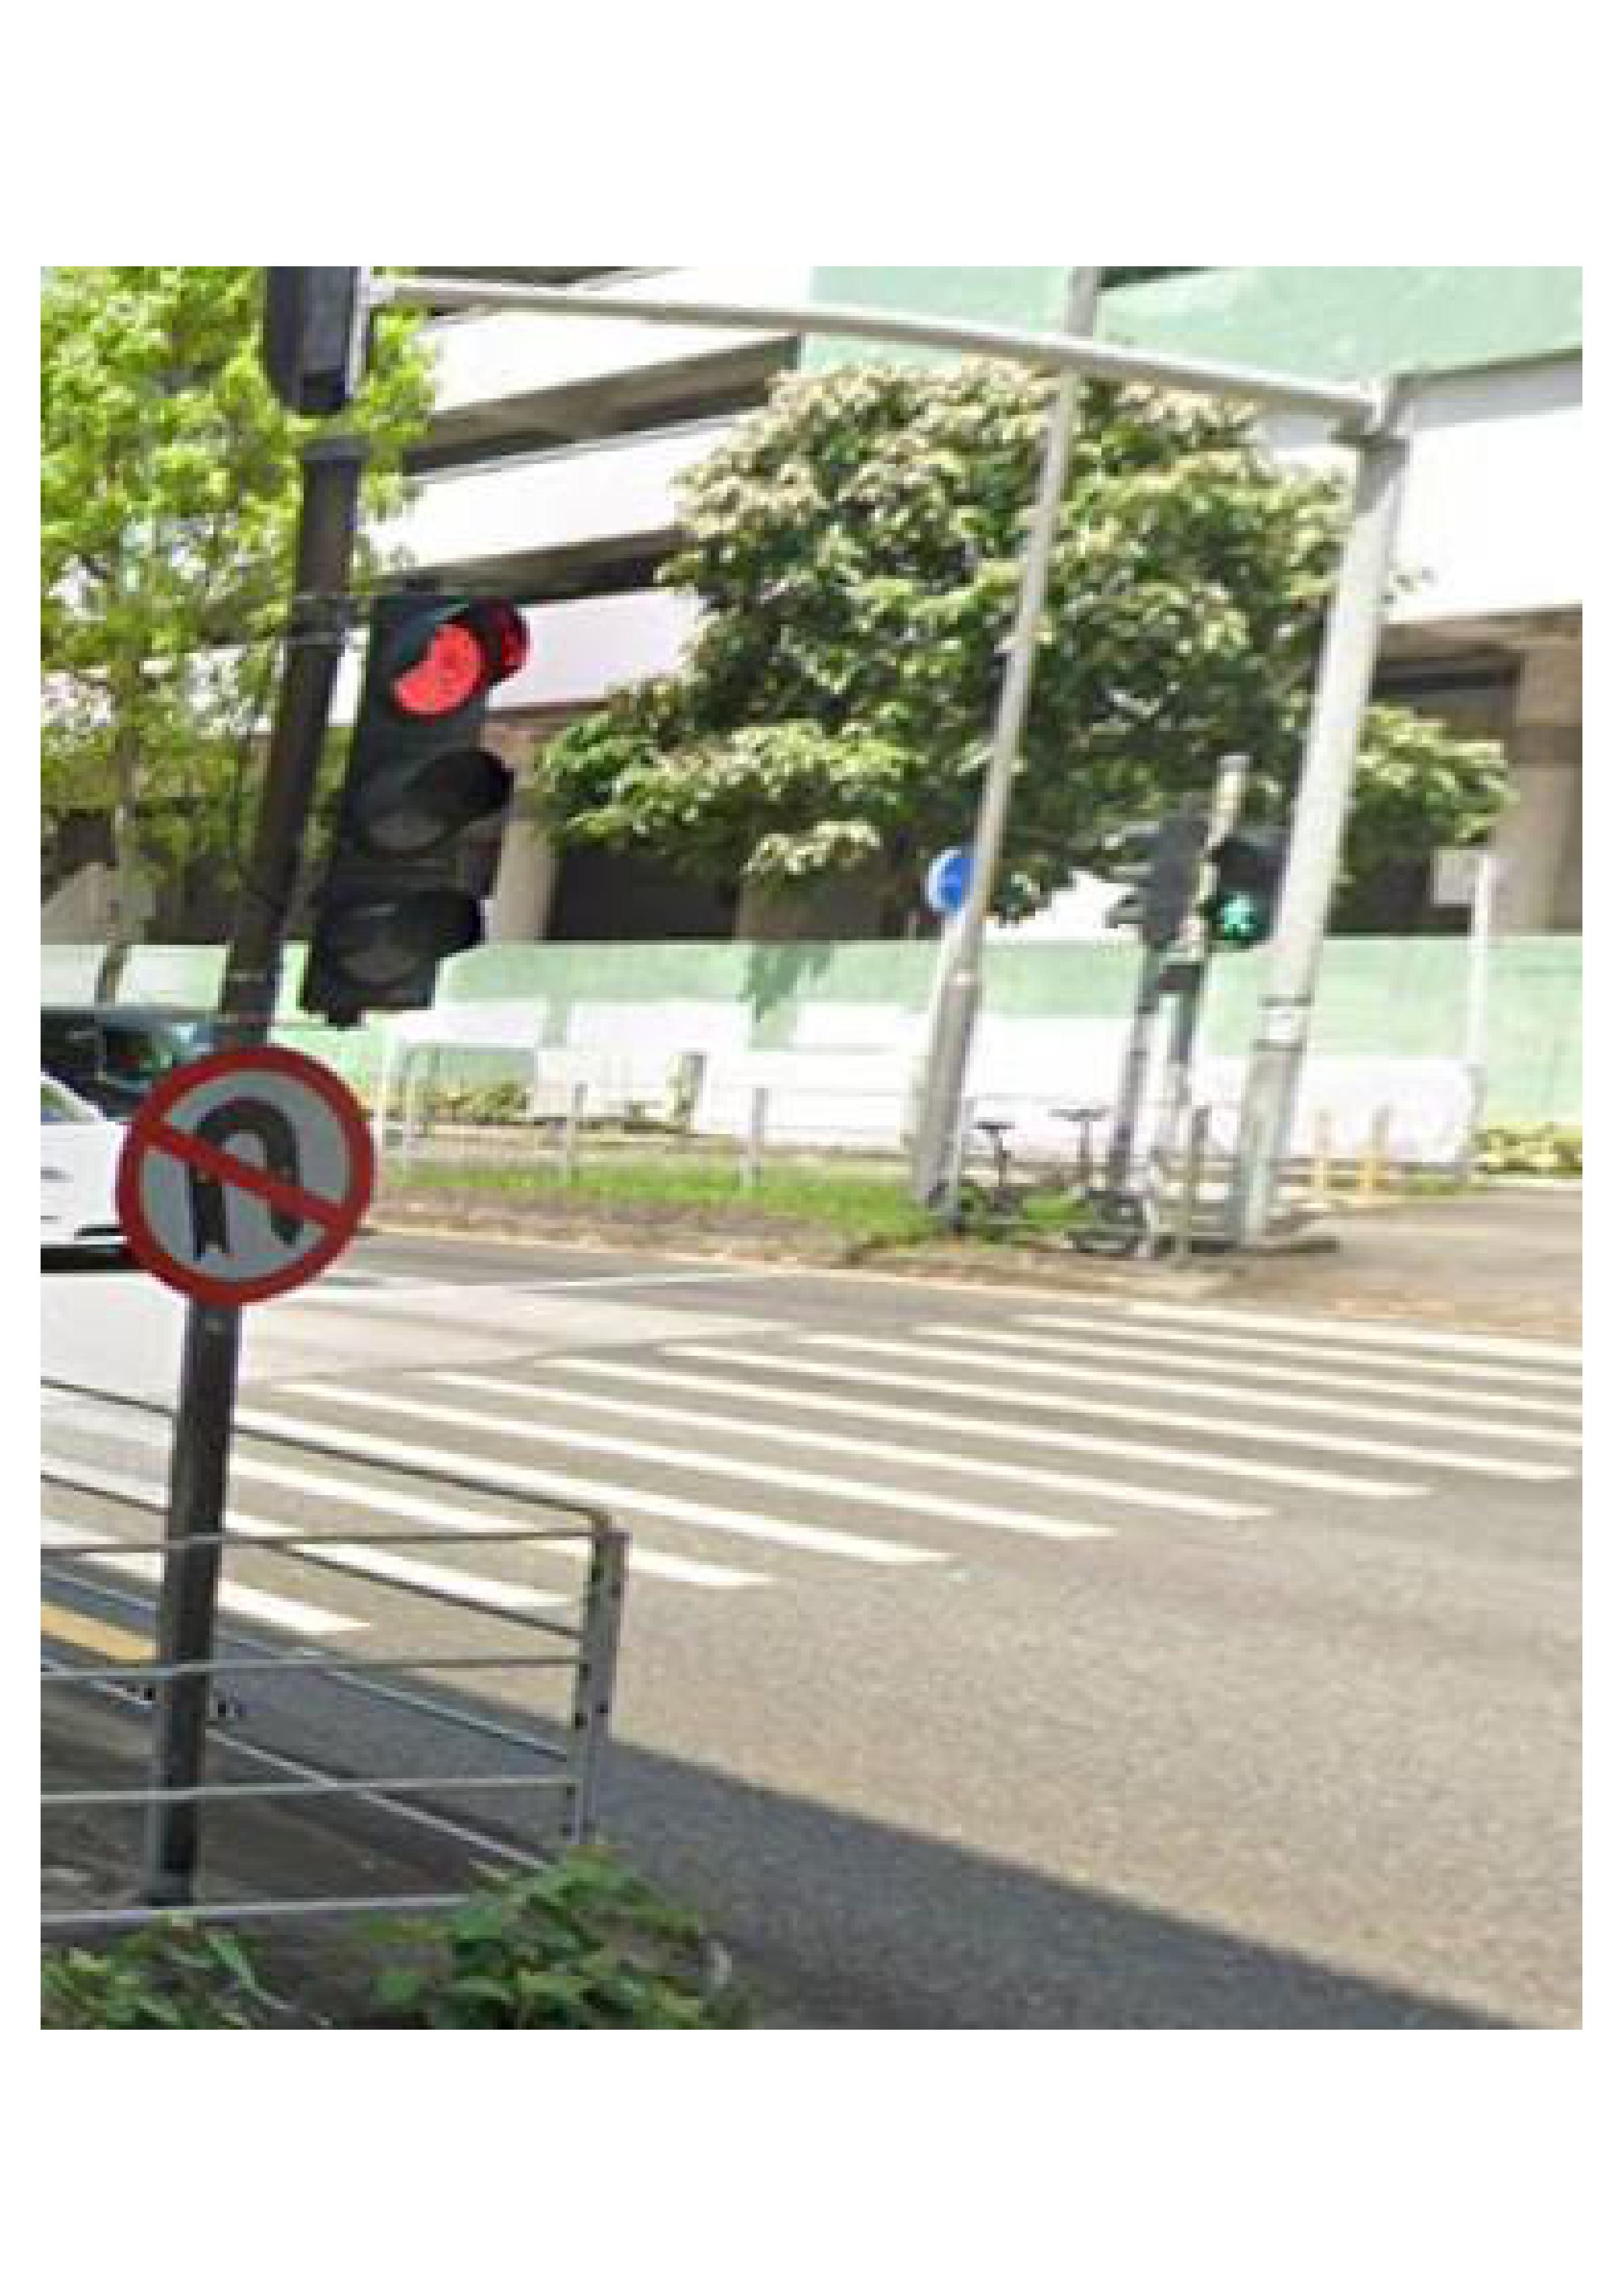No Uturn: (107, 1036, 378, 1294)
